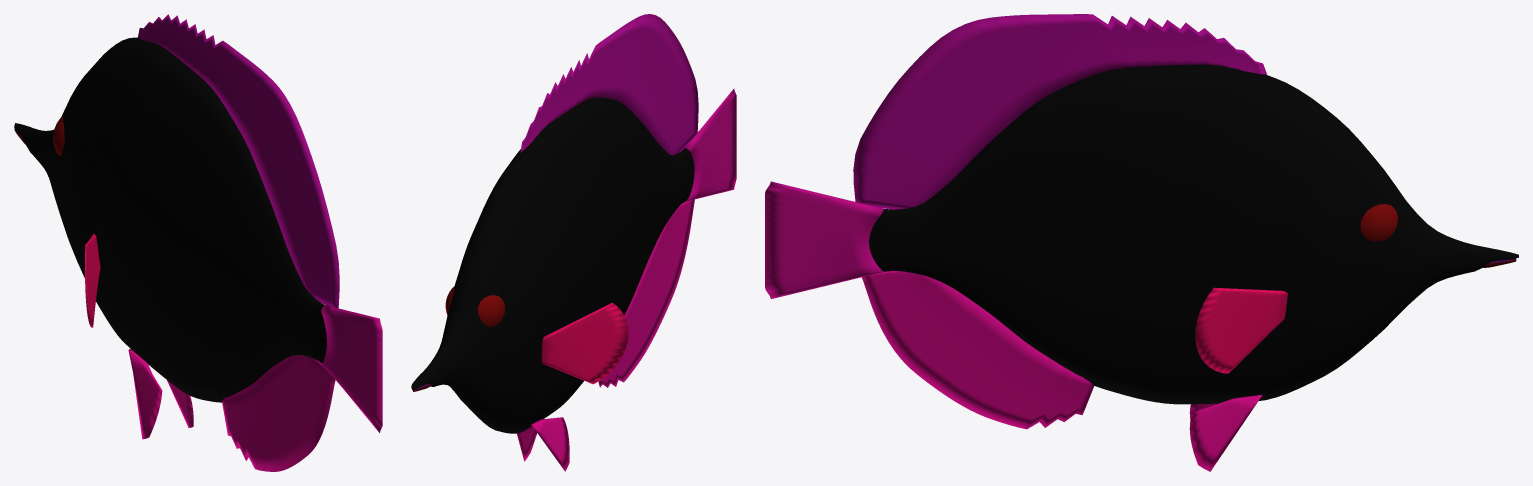
File: butterflyfish_copperband.glb
3 views of the same model, side by side, from view 1: azimuth 30°, elevation 25°; view 2: azimuth 150°, elevation 25°; view 3: azimuth 270°, elevation 25° (orthographic). The views are drawn at different scales.
Visible parts, largest first — view 1: butterflyfish_copperband; view 2: butterflyfish_copperband; view 3: butterflyfish_copperband.
Boxes of the visible parts, x1,y1,x2,y2 form: butterflyfish_copperband: (14, 14, 382, 471); butterflyfish_copperband: (411, 14, 736, 471); butterflyfish_copperband: (765, 14, 1518, 471).
Size of the model in its own units: 0.0493 by 0.1176 by 0.18.
